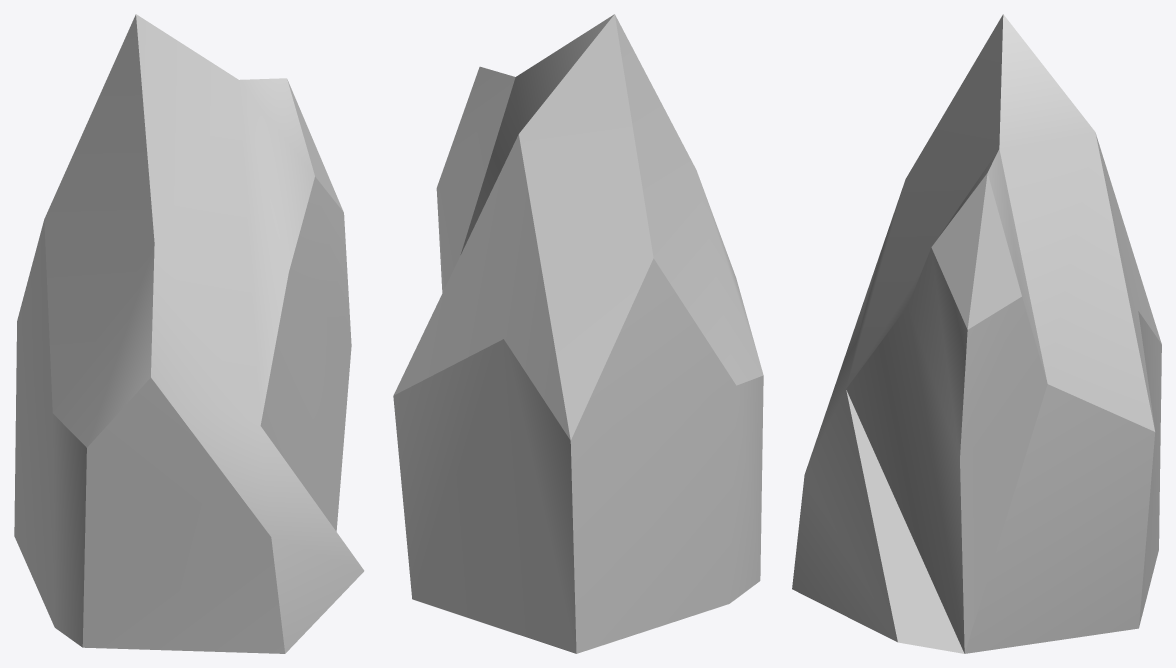
The model's file is RockPiece_4.fbx.
3 views of the same model, side by side, from view 1: azimuth 30°, elevation 25°; view 2: azimuth 150°, elevation 25°; view 3: azimuth 270°, elevation 25° (orthographic). The views are drawn at different scales.
Parts seen in each view (by area): view 1: pSolid4; view 2: pSolid4; view 3: pSolid4.
Part boxes in pixels (box(x1,y1,x2,y2)): pSolid4: box(14, 14, 364, 653); pSolid4: box(393, 14, 763, 653); pSolid4: box(792, 14, 1161, 653).
Bounding box in the file's own units: 0.0165 × 0.0308 × 0.0184.
